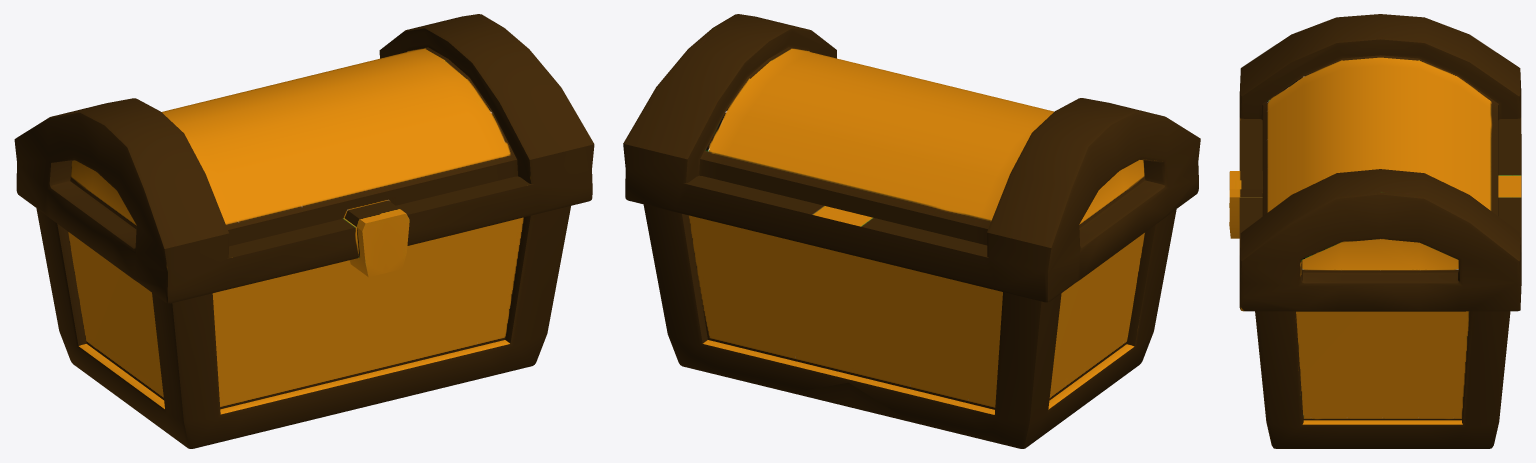
File: 보물상자 1.fbx
3 renders of one model, left to right at view 1: azimuth 30°, elevation 25°; view 2: azimuth 150°, elevation 25°; view 3: azimuth 270°, elevation 25°, orthographic. The views are drawn at different scales.
Visible parts, largest first — view 1: box top, bottom; view 2: box top, bottom; view 3: box top, bottom.
Boxes of the visible parts, left/top/right/bottom form: box top: left=14, top=14, right=594, bottom=303; bottom: left=36, top=206, right=570, bottom=448; box top: left=623, top=14, right=1200, bottom=302; bottom: left=643, top=204, right=1176, bottom=448; box top: left=1229, top=14, right=1521, bottom=311; bottom: left=1255, top=311, right=1510, bottom=448.
Size of the model in its own units: 158 by 102 by 100.
2 materials, 2 textured.
